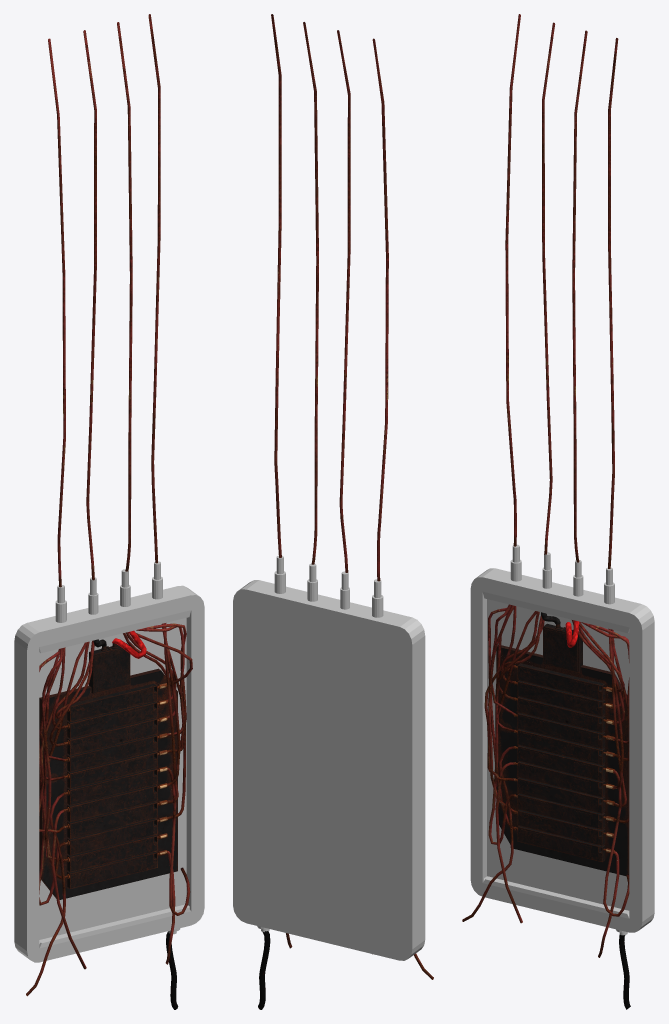
File: SM_ElectricalPanel.fbx
3 renders of one model, left to right at view 1: azimuth 30°, elevation 25°; view 2: azimuth 150°, elevation 25°; view 3: azimuth 330°, elevation 25°, orthographic. The views are drawn at different scales.
Parts seen in each view (by area): view 1: Cube%2E009_n3d, BezierCurve%2E006_n3d, Cube%2E011_Cube%2E011_n3d, Cube%2E010_n3d, Cube%2E012_n3d, BezierCurve%2E005_n3d, Cube%2E011_Cube%2E011_n3d2; view 2: Cube%2E009_n3d, BezierCurve%2E006_n3d, BezierCurve%2E005_n3d; view 3: Cube%2E009_n3d, Cube%2E011_Cube%2E011_n3d, BezierCurve%2E006_n3d, Cube%2E010_n3d, Cube%2E012_n3d, BezierCurve%2E005_n3d, Cube%2E011_Cube%2E011_n3d2.
Boxes of the visible parts, left/top/right/bottom form: Cube%2E009_n3d: left=14, top=561, right=204, bottom=962; BezierCurve%2E006_n3d: left=26, top=14, right=192, bottom=996; Cube%2E011_Cube%2E011_n3d: left=67, top=683, right=157, bottom=888; Cube%2E010_n3d: left=39, top=668, right=177, bottom=899; Cube%2E012_n3d: left=89, top=643, right=130, bottom=693; BezierCurve%2E005_n3d: left=93, top=630, right=178, bottom=1009; Cube%2E011_Cube%2E011_n3d2: left=63, top=683, right=167, bottom=878; Cube%2E009_n3d: left=233, top=555, right=425, bottom=960; BezierCurve%2E006_n3d: left=271, top=14, right=433, bottom=979; BezierCurve%2E005_n3d: left=258, top=931, right=270, bottom=1009; Cube%2E009_n3d: left=470, top=544, right=654, bottom=935; Cube%2E011_Cube%2E011_n3d: left=517, top=663, right=605, bottom=861; BezierCurve%2E006_n3d: left=462, top=14, right=629, bottom=957; Cube%2E010_n3d: left=496, top=645, right=629, bottom=876; Cube%2E012_n3d: left=543, top=623, right=582, bottom=672; BezierCurve%2E005_n3d: left=541, top=612, right=630, bottom=1009; Cube%2E011_Cube%2E011_n3d2: left=514, top=665, right=614, bottom=853.
Bounding box in the file's own units: 142 × 740 × 28.81.
